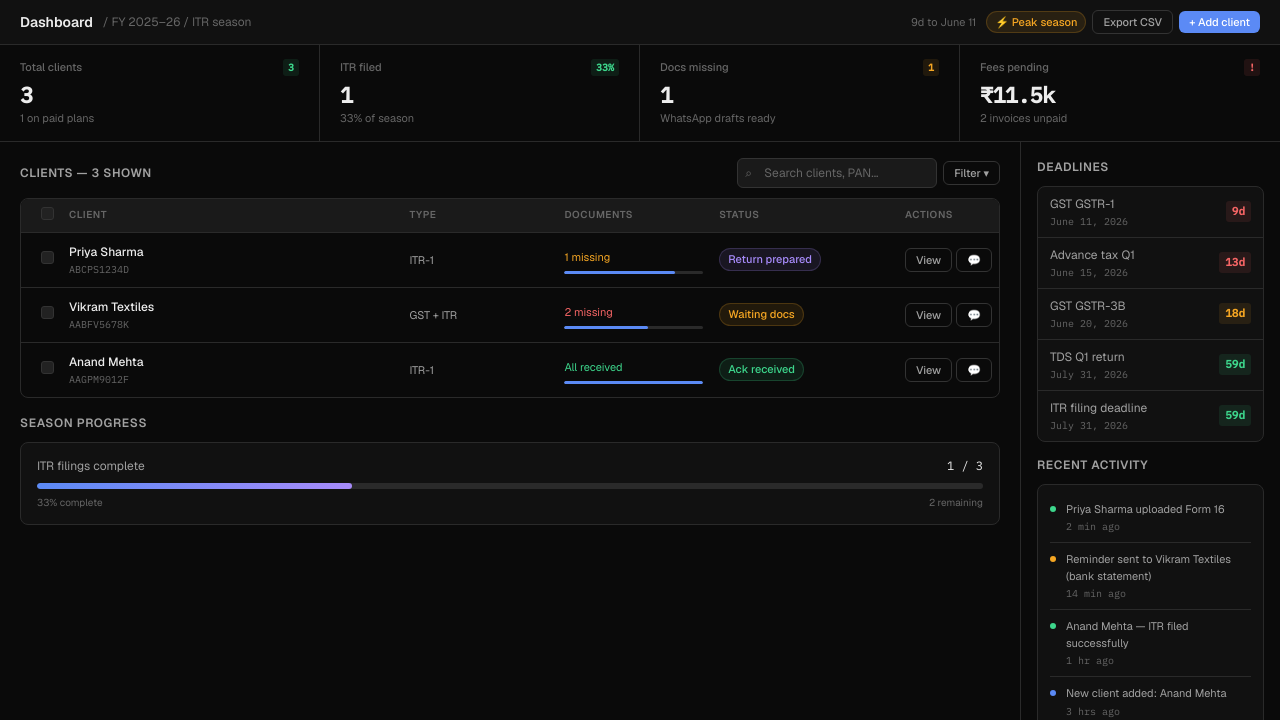
Dashboard — search › shows empty search result message
The width and height of the screenshot is (1280, 720).
Type "zzznomatch" into the search field with placeholder "Search clients, PAN...".
click(837, 172); type("zzznomatch")  # box left=737, top=158, right=937, bottom=188
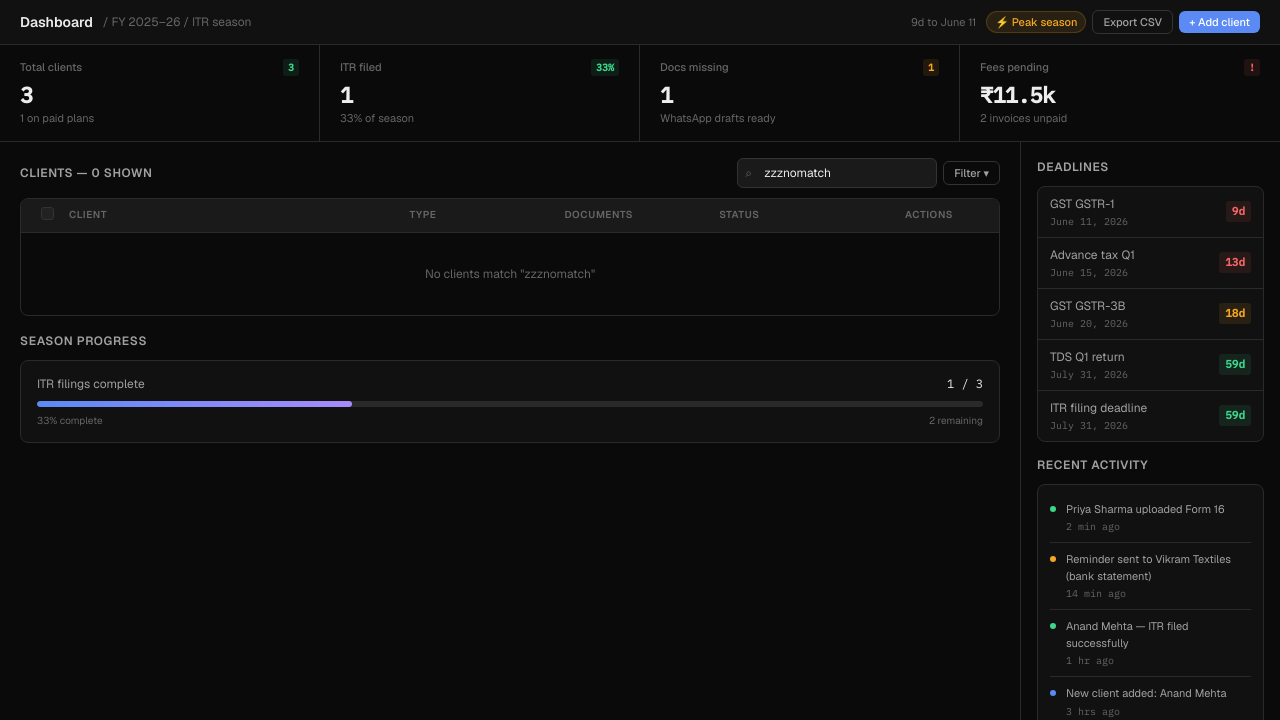
Now the text "No clients match \"zzznomatch\"" is shown, box left=425, top=266, right=595, bottom=282
